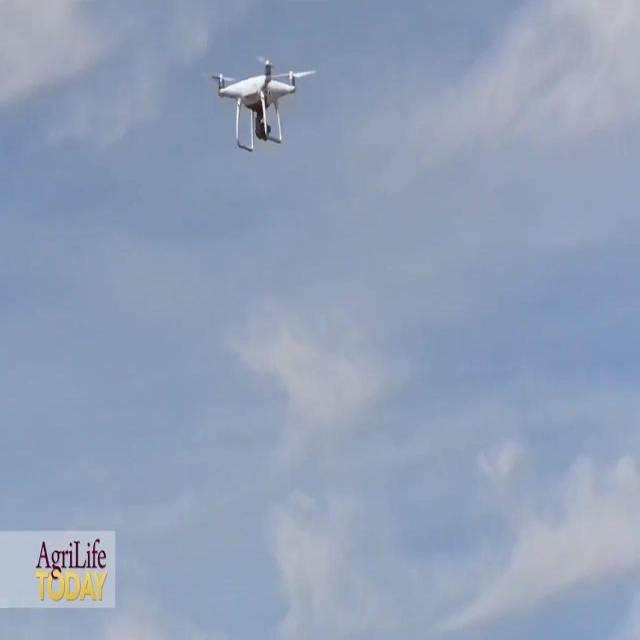drone: (214, 57, 297, 157)
